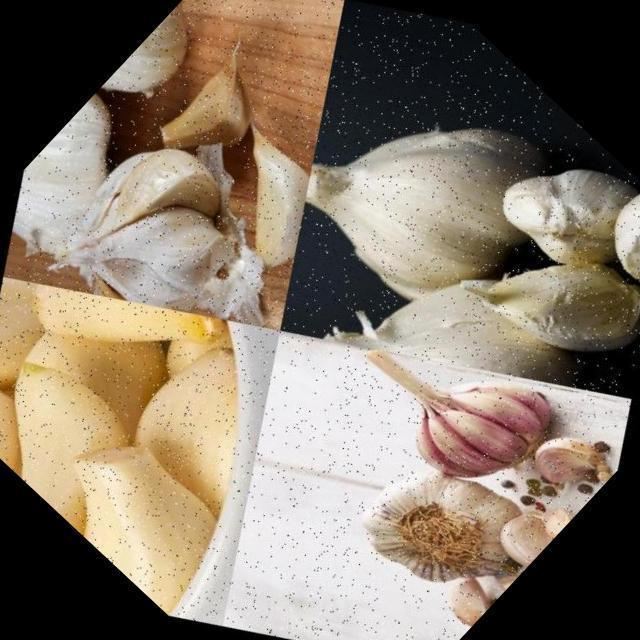garlic: (0, 172, 387, 640), (218, 9, 622, 412), (286, 139, 640, 514), (0, 62, 315, 386), (298, 272, 605, 578), (308, 396, 568, 640), (436, 177, 640, 422), (0, 68, 200, 296), (174, 104, 372, 305), (457, 105, 640, 321), (112, 2, 308, 198), (77, 0, 261, 161), (434, 464, 584, 620), (509, 404, 622, 516), (560, 168, 640, 308), (417, 546, 512, 640)
